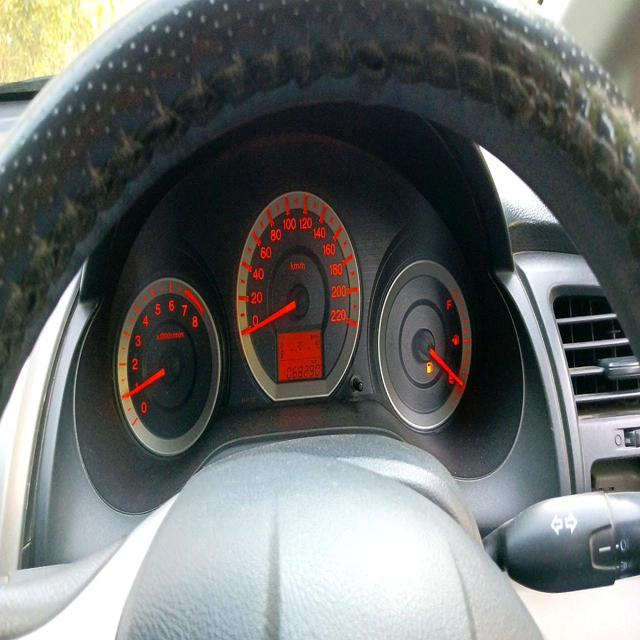odometer: (283, 358, 321, 381)
